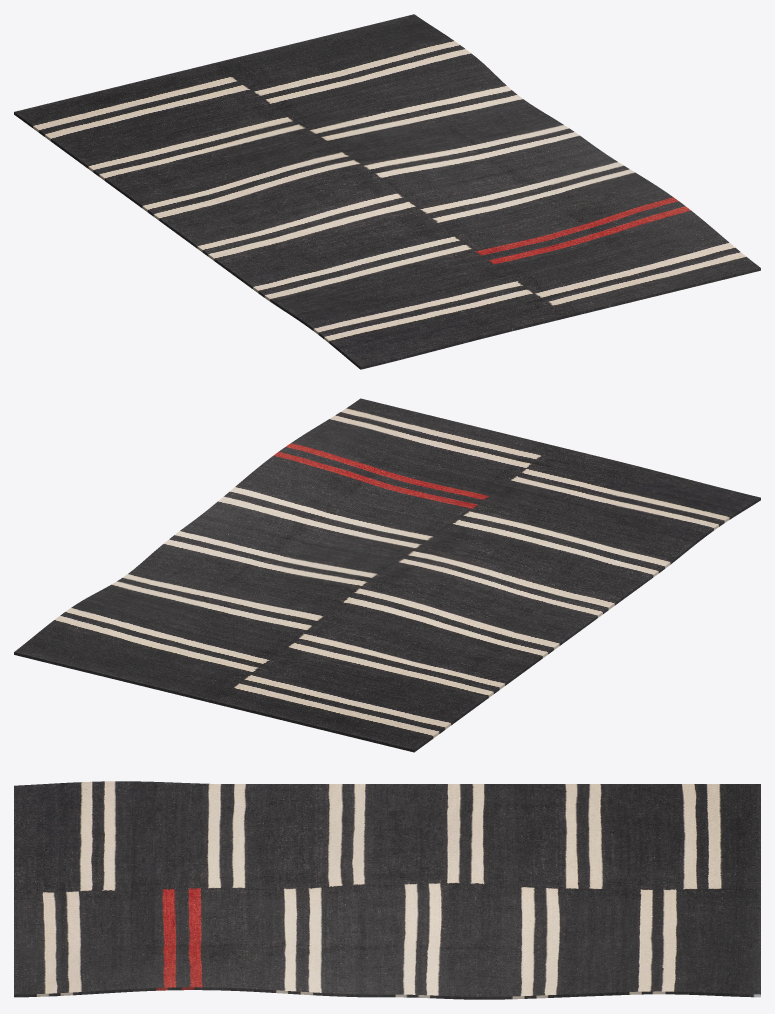
File: 21713_black_kilim_rug.glb
3 views of the same model, one above another, from view 1: azimuth 30°, elevation 25°; view 2: azimuth 150°, elevation 25°; view 3: azimuth 270°, elevation 25° (orthographic). The views are drawn at different scales.
Parts seen in each view (by area): view 1: Component; view 2: Component; view 3: Component.
Part boxes in pixels (x1,y1,x2,y2): Component: (14,14,760,369); Component: (14,398,760,752); Component: (14,781,760,999).
Bounding box in the file's own units: 2 × 0.0589 × 3.
1 material, 1 textured.
